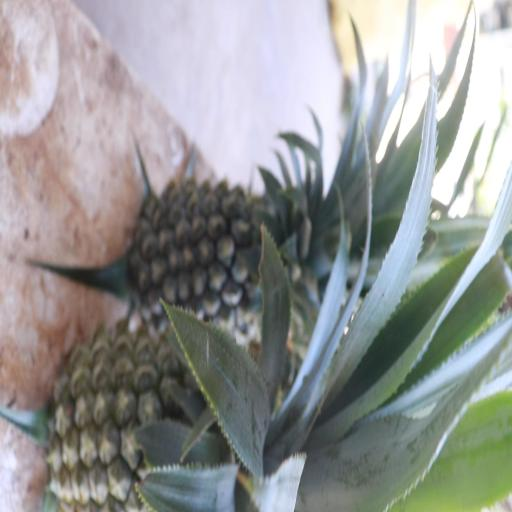------------------------------: (52, 315, 278, 512)
